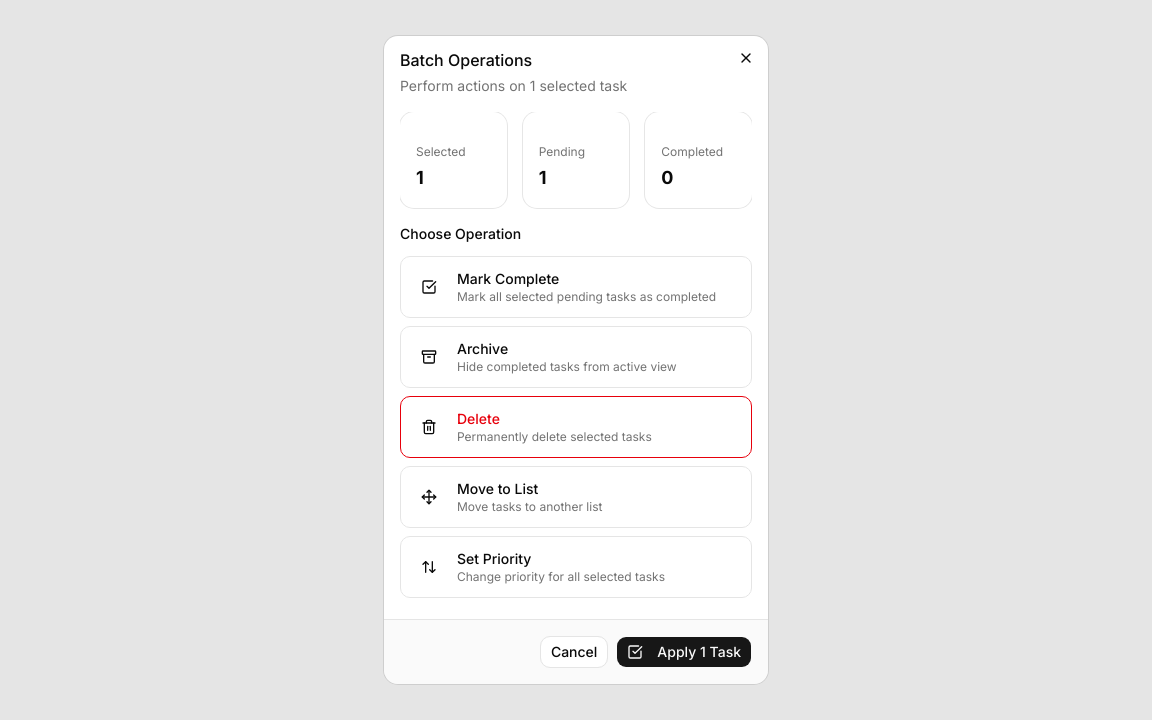
Scenario: BatchOperationModal › shows confirmation warning for delete operation
The image size is (1152, 720).
Click the heading "Delete".
click(478, 418)  # box [457, 410, 500, 427]
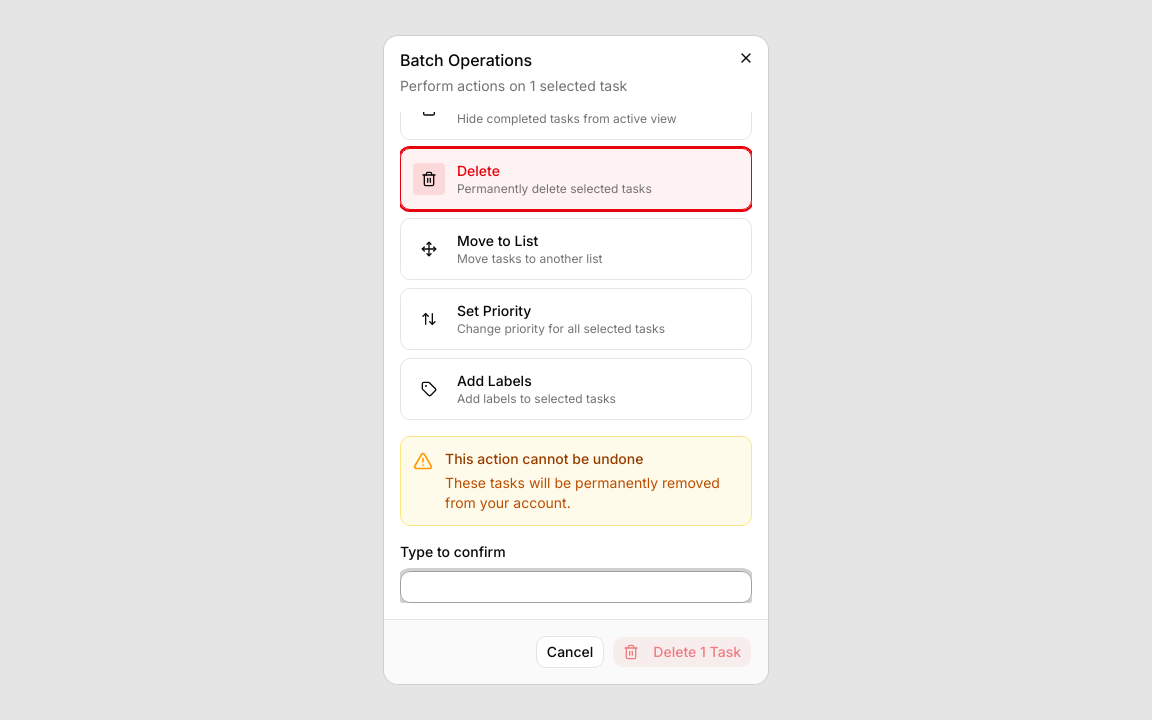
expect the heading "This action cannot be undone" is shown: met, box [445, 450, 644, 467]
